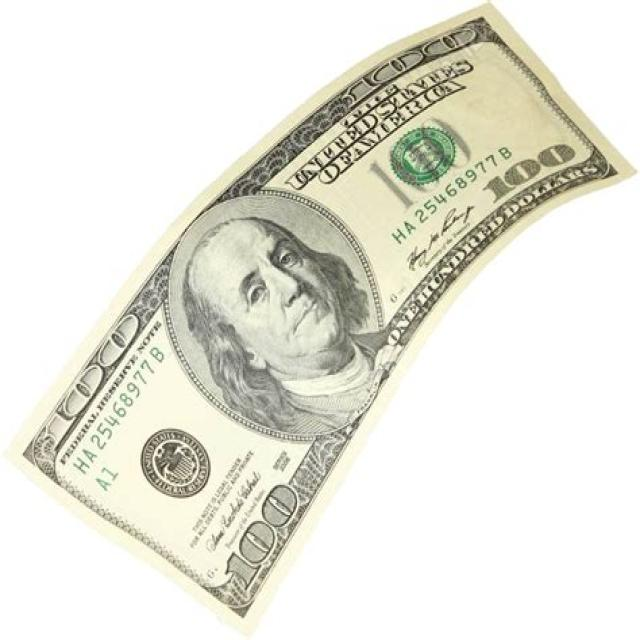Hundred: (4, 1, 640, 631)
